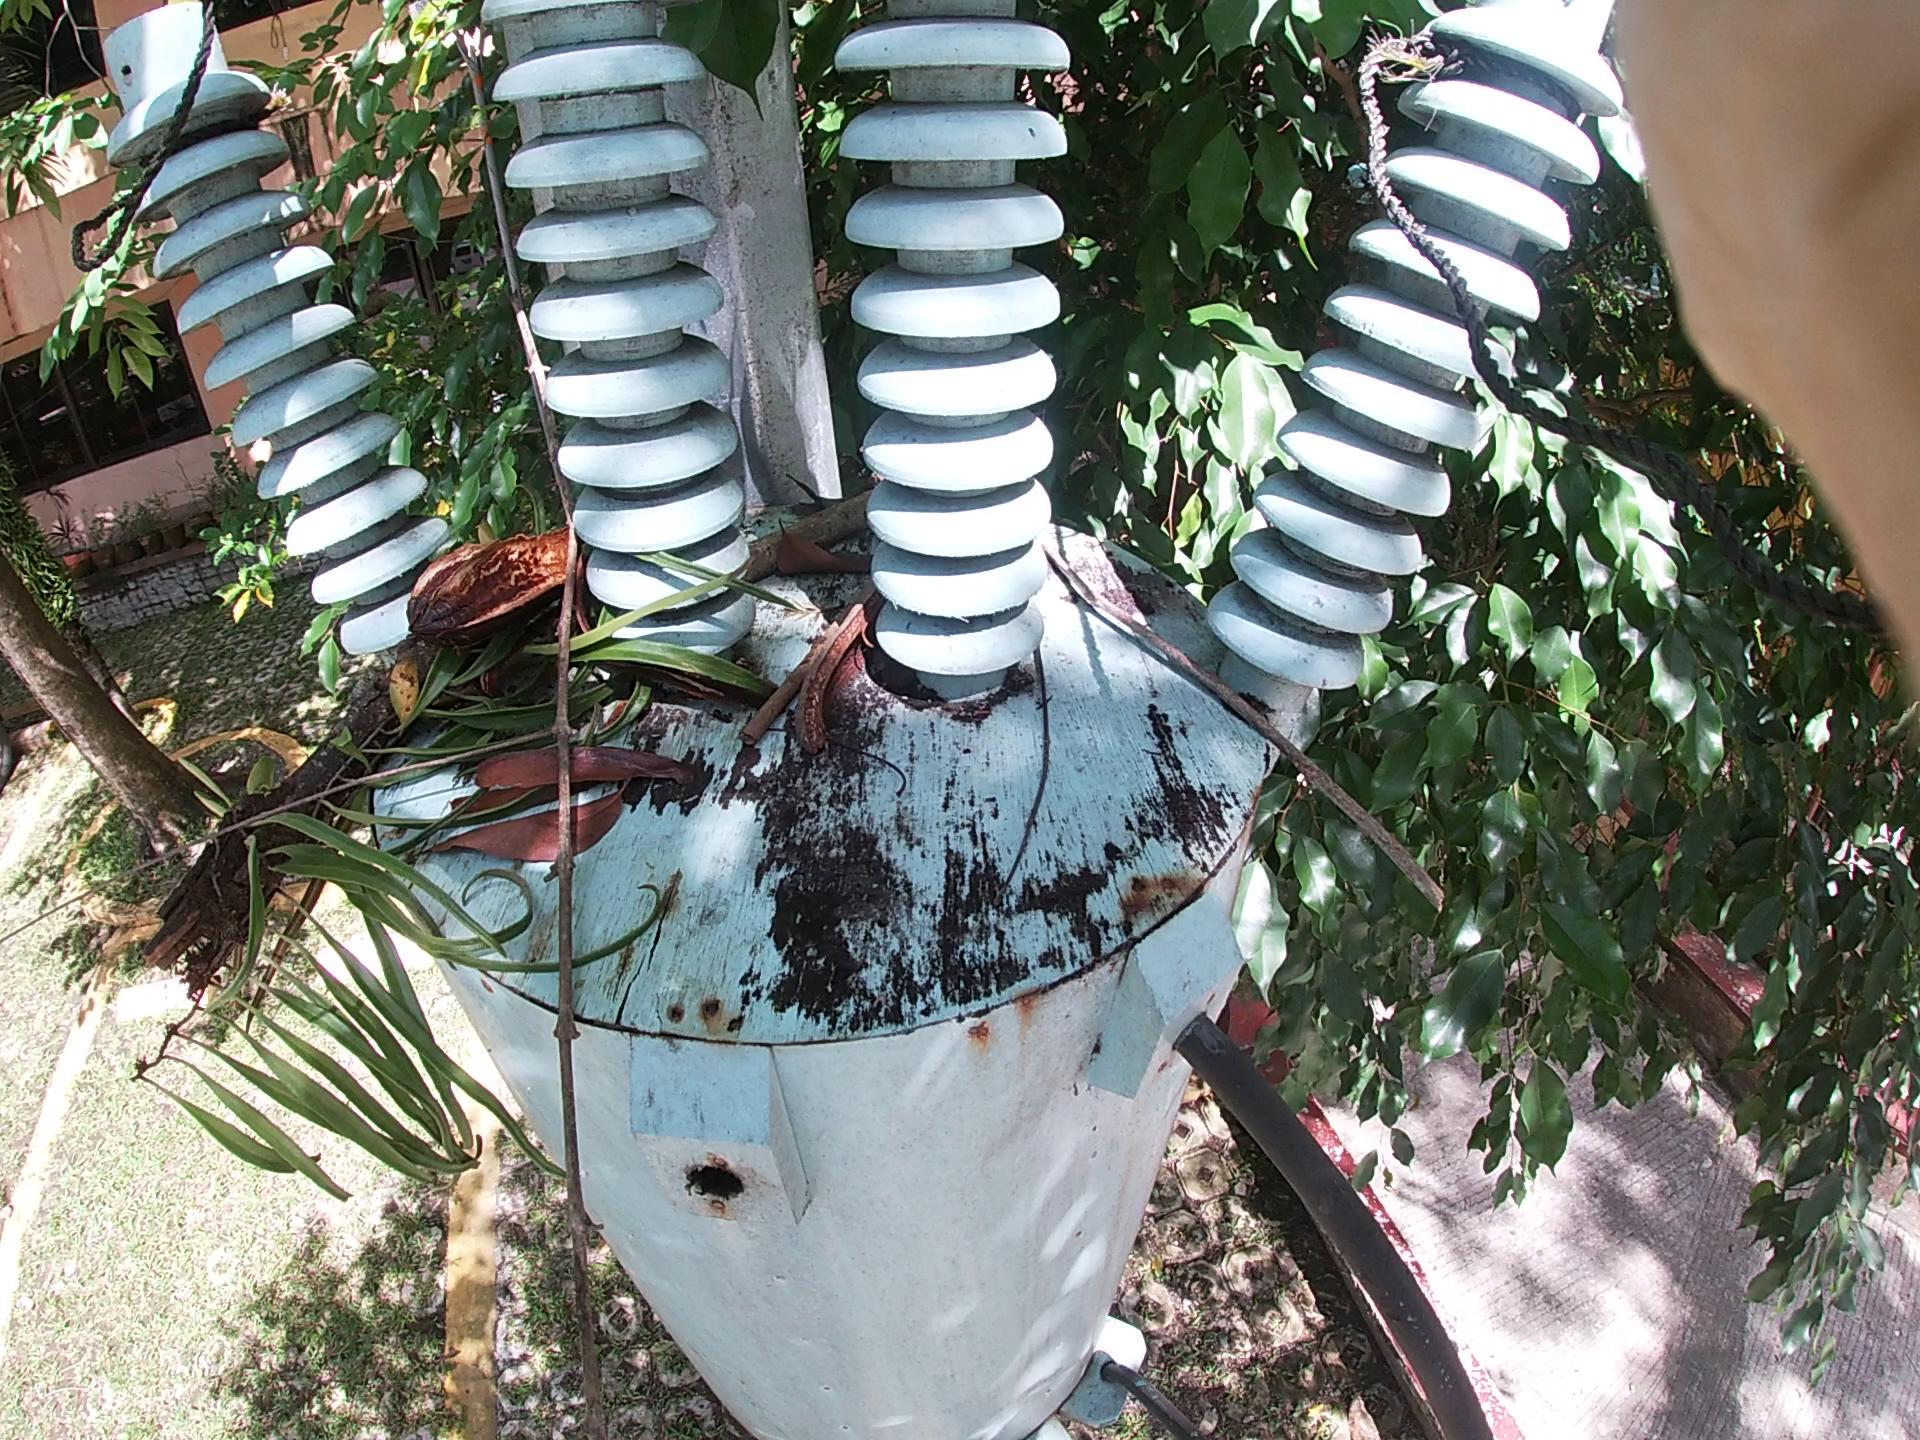branch with leaves: (252, 464, 878, 939)
leaf: (697, 383, 1161, 591)
mahogany fruit: (405, 461, 594, 697), (774, 540, 928, 773)
tree branch: (1005, 537, 1403, 930), (505, 360, 585, 1286), (408, 711, 754, 897), (788, 449, 903, 826)
